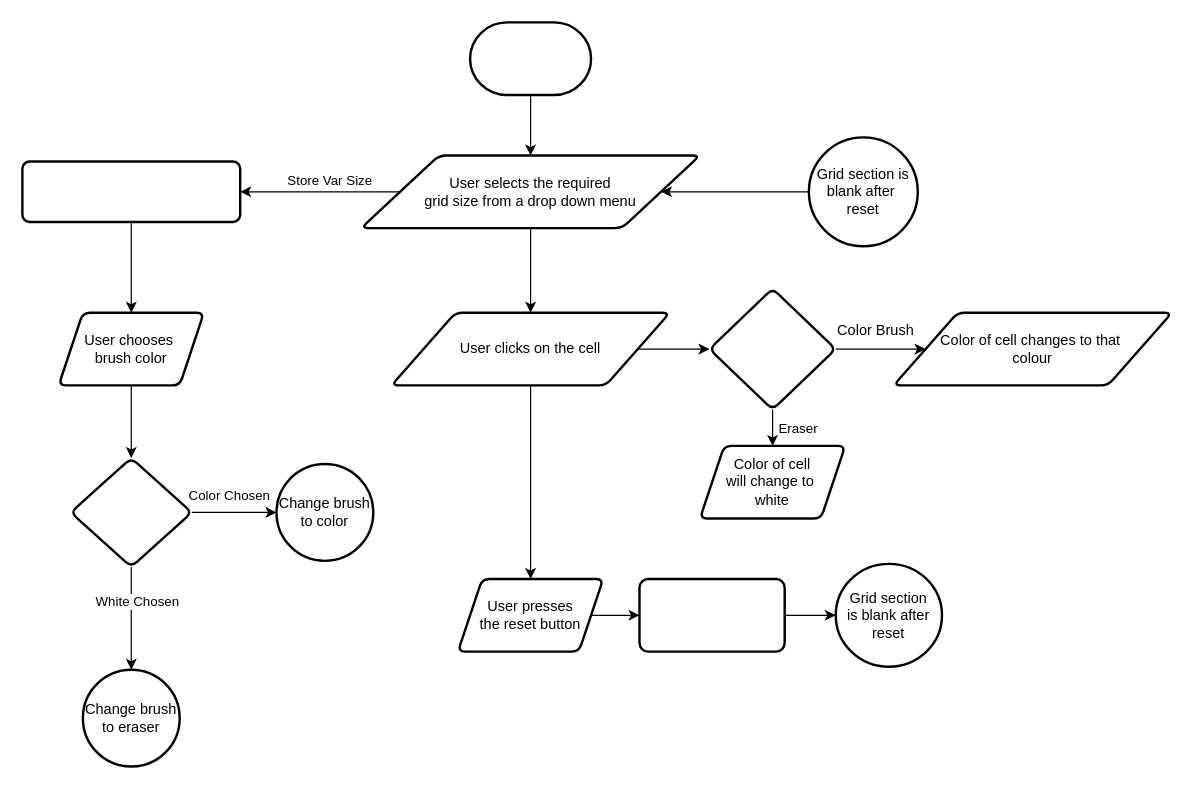
Some shapes in this 1193 by 788 pixel diagram are drawn without their labels. Each missing label, with the box of its shape:
Brush chosen during click?: (708, 287, 836, 410)
Brush color ?: (69, 456, 192, 567)
Delete all created divs: (638, 577, 785, 652)
JS creates a grid using flex box divs (flex-wrap) based on chosen size.: (21, 160, 241, 223)
User Opens the Website: (468, 21, 592, 96)
